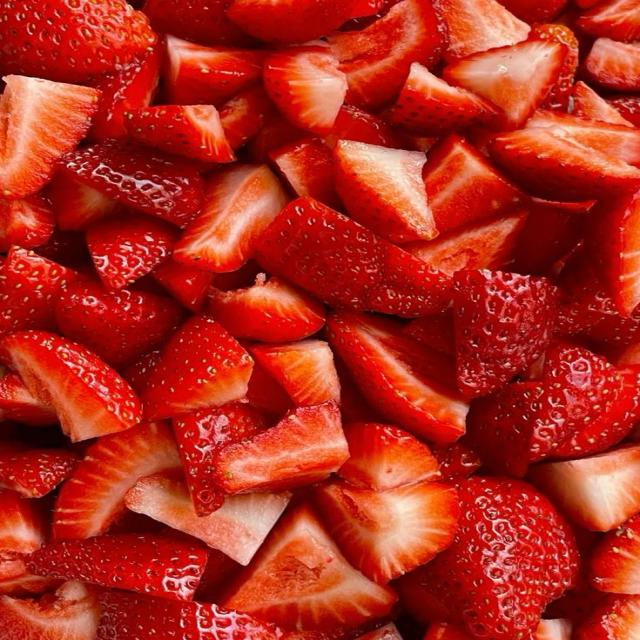strawberry sliced: (403, 478, 578, 639), (257, 199, 450, 317), (221, 505, 396, 631), (328, 312, 467, 442), (0, 331, 141, 441), (53, 423, 181, 539), (126, 476, 290, 565), (315, 481, 458, 583), (454, 270, 556, 397), (0, 0, 156, 82), (214, 401, 349, 494), (329, 0, 444, 107), (174, 165, 289, 272), (0, 75, 100, 198), (61, 141, 202, 226), (27, 534, 207, 600), (142, 316, 253, 419), (491, 128, 639, 201), (56, 281, 183, 366), (173, 403, 268, 516), (445, 41, 566, 128), (335, 141, 437, 243), (545, 348, 639, 457), (465, 382, 572, 476), (424, 135, 525, 233), (530, 445, 639, 530), (96, 591, 282, 639), (404, 211, 527, 276), (388, 63, 497, 136), (208, 276, 325, 342), (556, 252, 639, 344), (263, 45, 347, 135), (163, 35, 265, 107), (89, 43, 163, 140), (87, 213, 179, 290), (338, 423, 441, 491), (0, 247, 79, 334), (588, 194, 639, 317), (526, 111, 639, 166), (125, 105, 234, 162), (511, 200, 592, 276), (250, 340, 340, 406), (0, 581, 100, 639), (439, 0, 530, 61), (227, 0, 353, 43), (270, 138, 341, 209), (143, 0, 252, 46), (46, 172, 121, 230), (530, 25, 579, 112), (248, 97, 309, 163), (590, 515, 639, 593), (0, 449, 77, 498), (324, 105, 410, 148), (219, 86, 274, 150), (0, 491, 46, 566), (152, 258, 215, 312), (0, 371, 57, 426), (0, 195, 55, 251), (583, 38, 639, 91), (573, 595, 639, 639), (572, 82, 633, 127), (247, 362, 295, 419), (577, 0, 639, 42), (403, 308, 455, 356), (0, 559, 61, 597), (432, 442, 482, 482), (499, 0, 568, 24), (606, 94, 639, 127), (423, 622, 471, 639), (534, 619, 572, 639), (358, 623, 402, 639)
